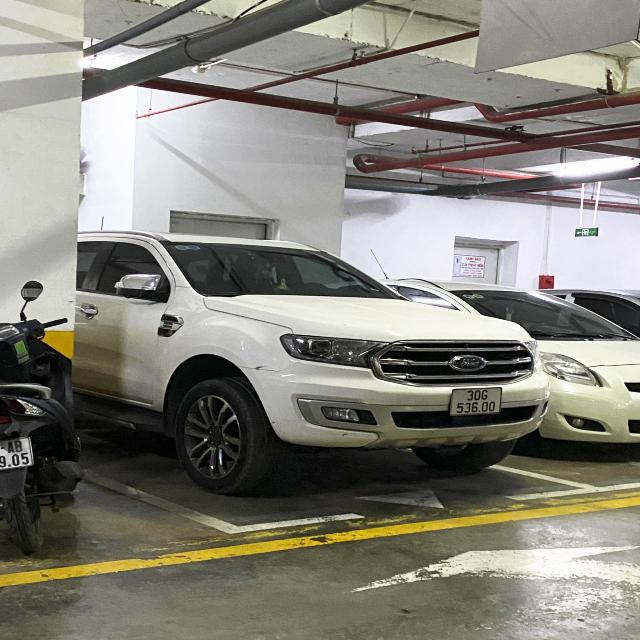license_plate: (449, 386, 505, 419)
